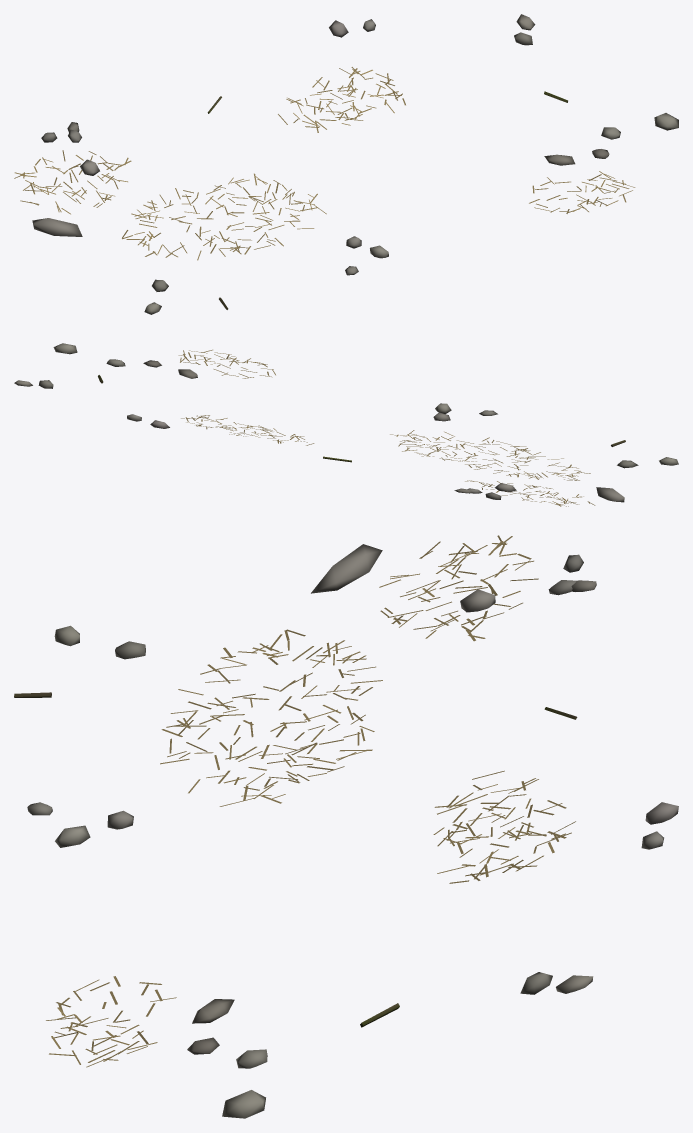
The model's file is gate_apron.glb.
The picture shows the model from 3 angles, top to bottom: view 1: azimuth 30°, elevation 25°; view 2: azimuth 150°, elevation 25°; view 3: azimuth 270°, elevation 25°; orthographic projection. The views are drawn at different scales.
Parts seen in each view (by area): view 1: gate_apron; view 2: gate_apron; view 3: gate_apron.
Boxes of the visible parts, x1,y1,x2,y2 form: gate_apron: (14, 14, 678, 314); gate_apron: (14, 343, 678, 506); gate_apron: (14, 535, 678, 1118).
Size of the model in its own units: 8.42 by 1.09 by 4.41.
